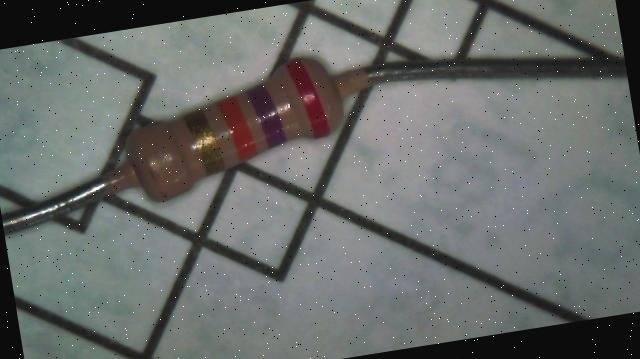gold: (184, 104, 226, 175)
orange: (216, 94, 258, 162)
red: (286, 55, 331, 139)
resistor: (80, 35, 375, 234)
violet: (246, 80, 288, 148)
